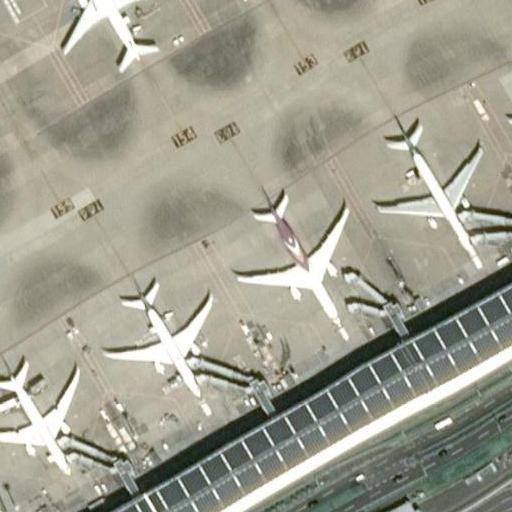Aircraft: (231, 193, 357, 335), (374, 118, 486, 261), (106, 282, 219, 403), (0, 359, 90, 476), (52, 0, 170, 69), (497, 33, 512, 184), (178, 0, 292, 1)
